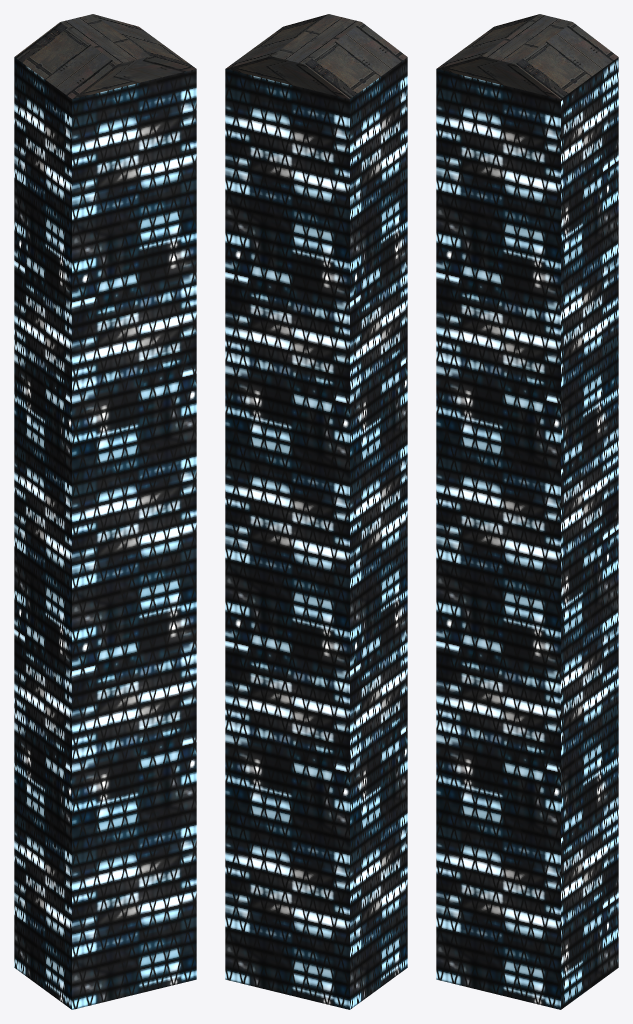
Rendered from synth-remixed-skyscraper.glb.
3 views of the same model, side by side, from view 1: azimuth 30°, elevation 25°; view 2: azimuth 150°, elevation 25°; view 3: azimuth 330°, elevation 25° (orthographic).
Parts seen in each view (by area): view 1: Cube.001; view 2: Cube.001; view 3: Cube.001.
Part boxes in pixels (left/top/right/bottom): Cube.001: left=14, top=14, right=196, bottom=1009; Cube.001: left=225, top=14, right=407, bottom=1009; Cube.001: left=436, top=14, right=618, bottom=1009.
Bounding box in the file's own units: 9.79 × 70.15 × 7.86.
Materials: 1 (1 with a texture image).
